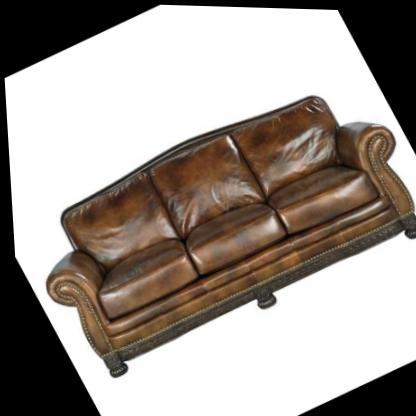Sofa: (2, 51, 416, 394)
